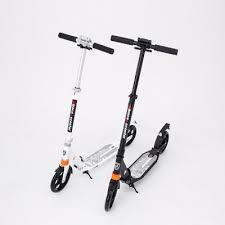kick_handler: (111, 34, 179, 55), (57, 32, 113, 56)
kick_neck: (61, 58, 85, 156)
kick_wheel: (52, 167, 71, 192), (155, 125, 170, 153)
